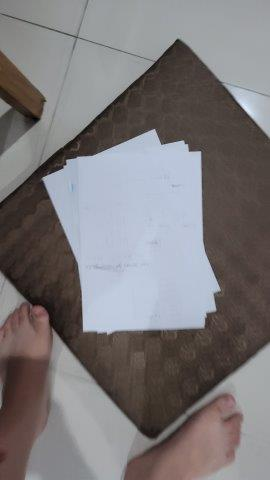kertas: (40, 131, 224, 335)
